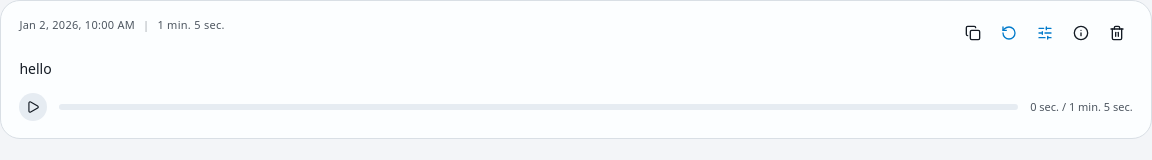
Scenario: HistoryPane › disables playback after an audio-path IPC failure
Click the button named "Listen" at (33, 107), box [19,93,47,121]
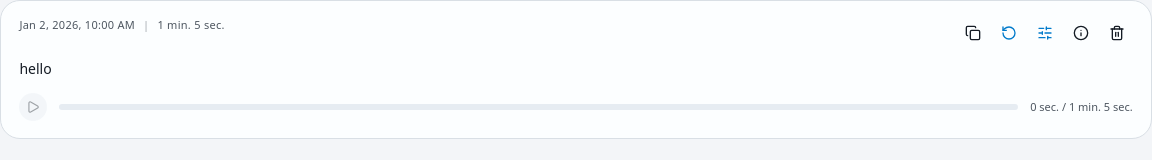
Check: the button named "Listen" is disabled, box [19,93,47,121]
